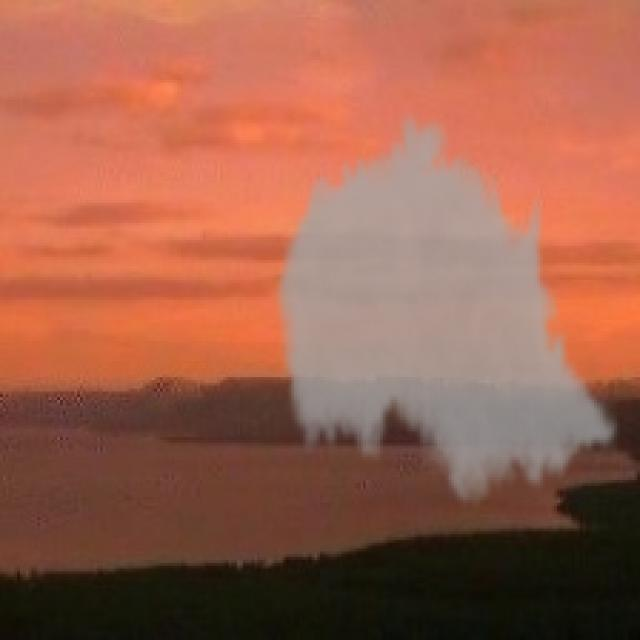Smoke: (271, 105, 620, 518)
